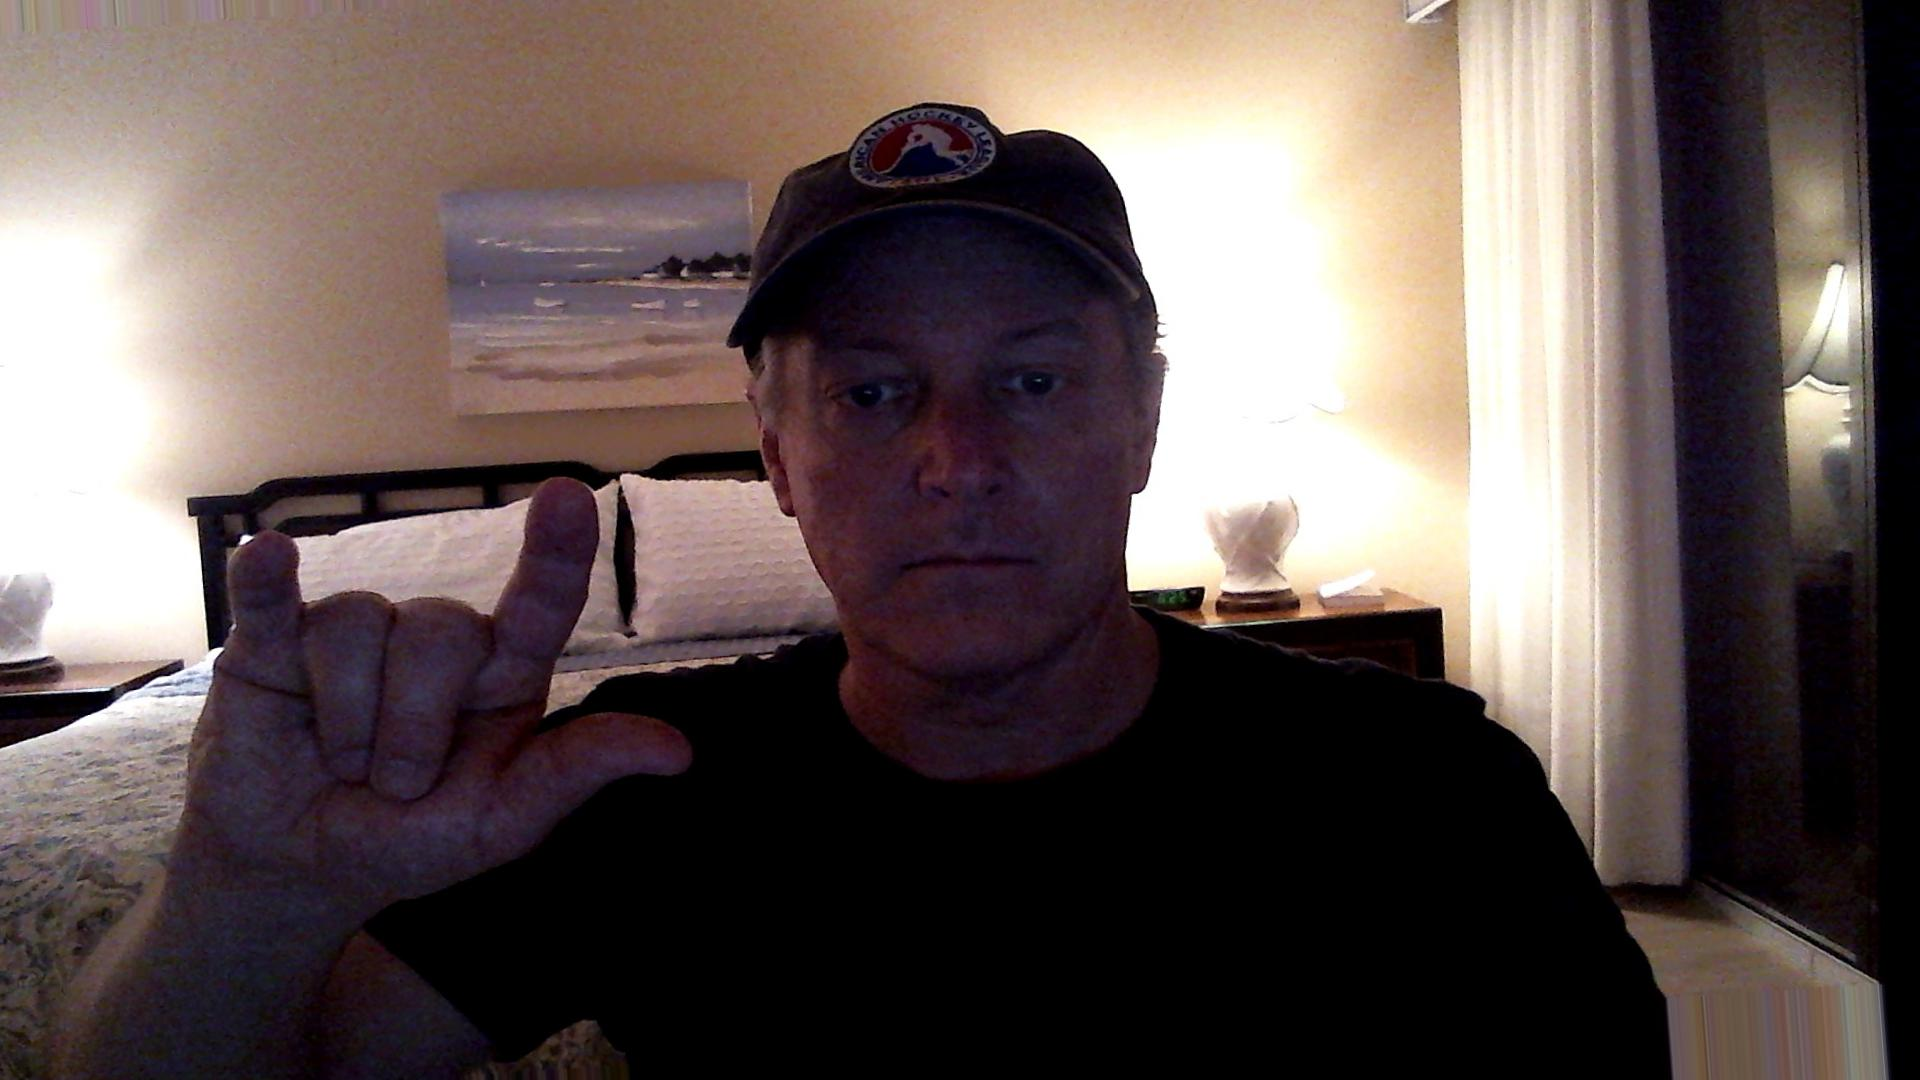I Love You: (173, 464, 703, 926)
